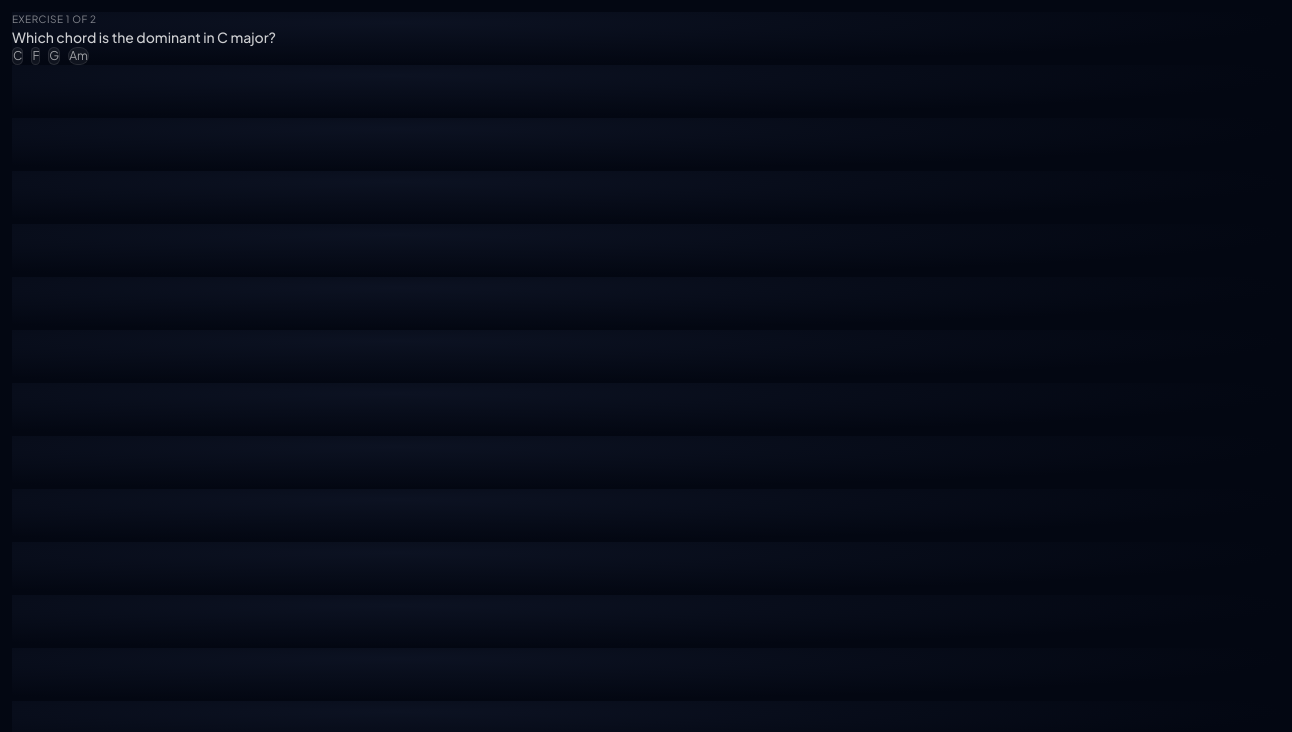
Test: ExercisePanel › selecting correct answer shows "Correct!"
Click the button "G".
click(54, 56)  # box [48, 47, 60, 65]
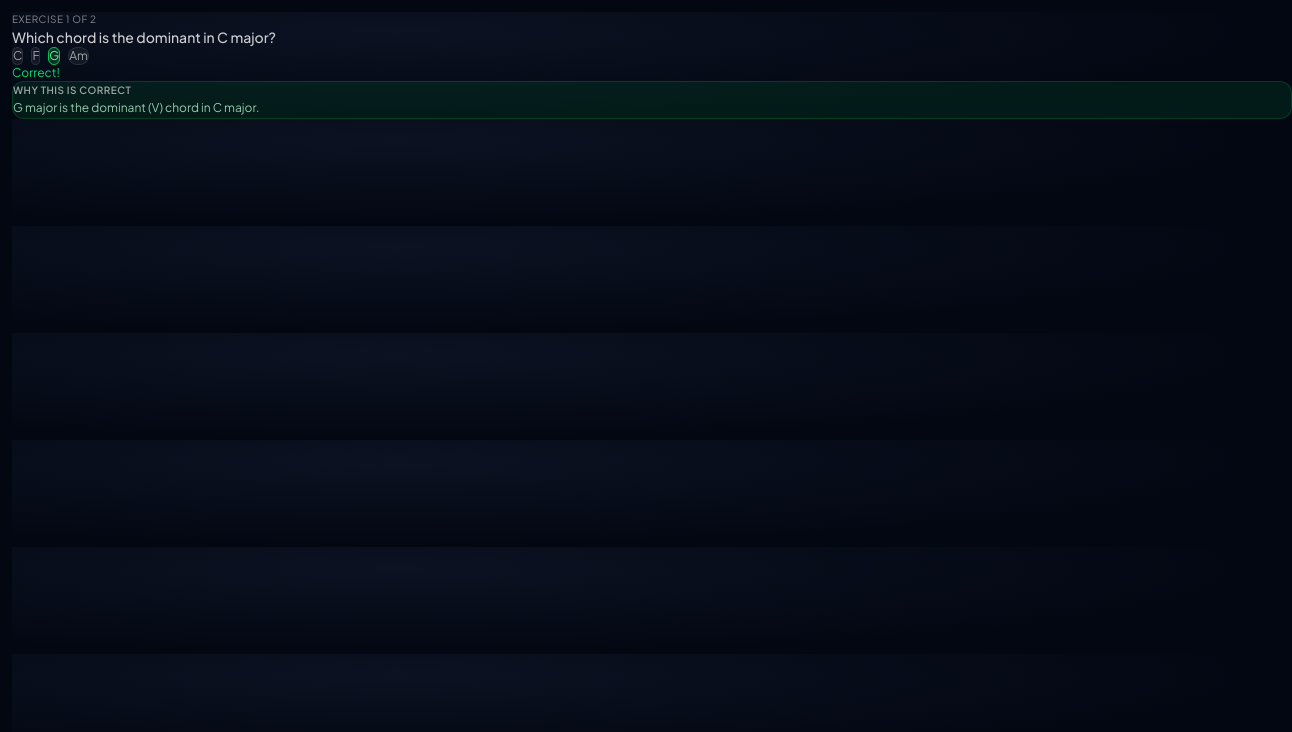
Expected: the text "Correct!" is shown, [12, 65, 60, 80]
